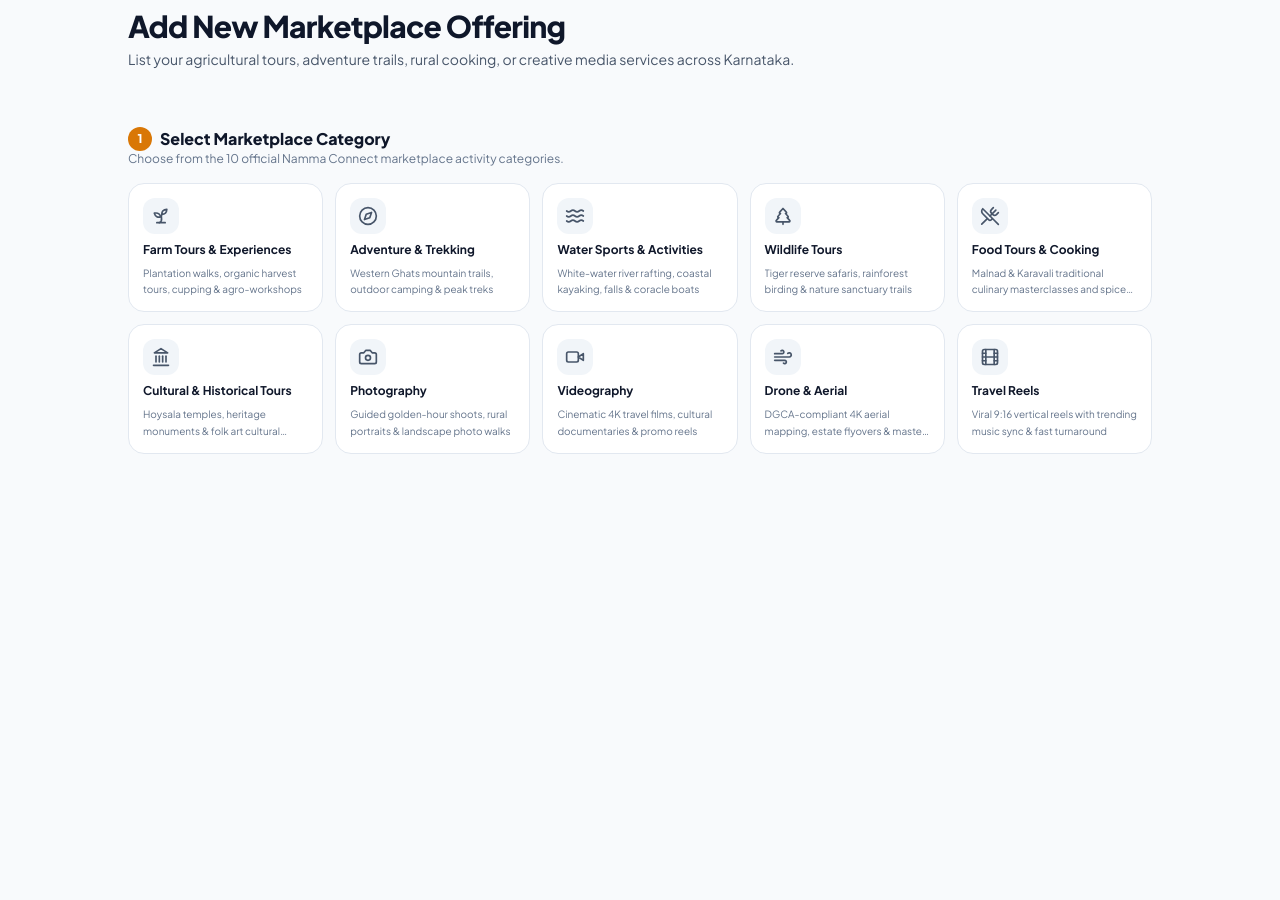
Scenario: Provider Service Management Component Suite › creates a new draft and review submission in PartnerServiceNewPage
Expected: the text "Select Marketplace Category" is shown, [160,127,390,151]
Click the heading "Farm Tours & Experiences" at [217, 249], box [143,242,292,257]
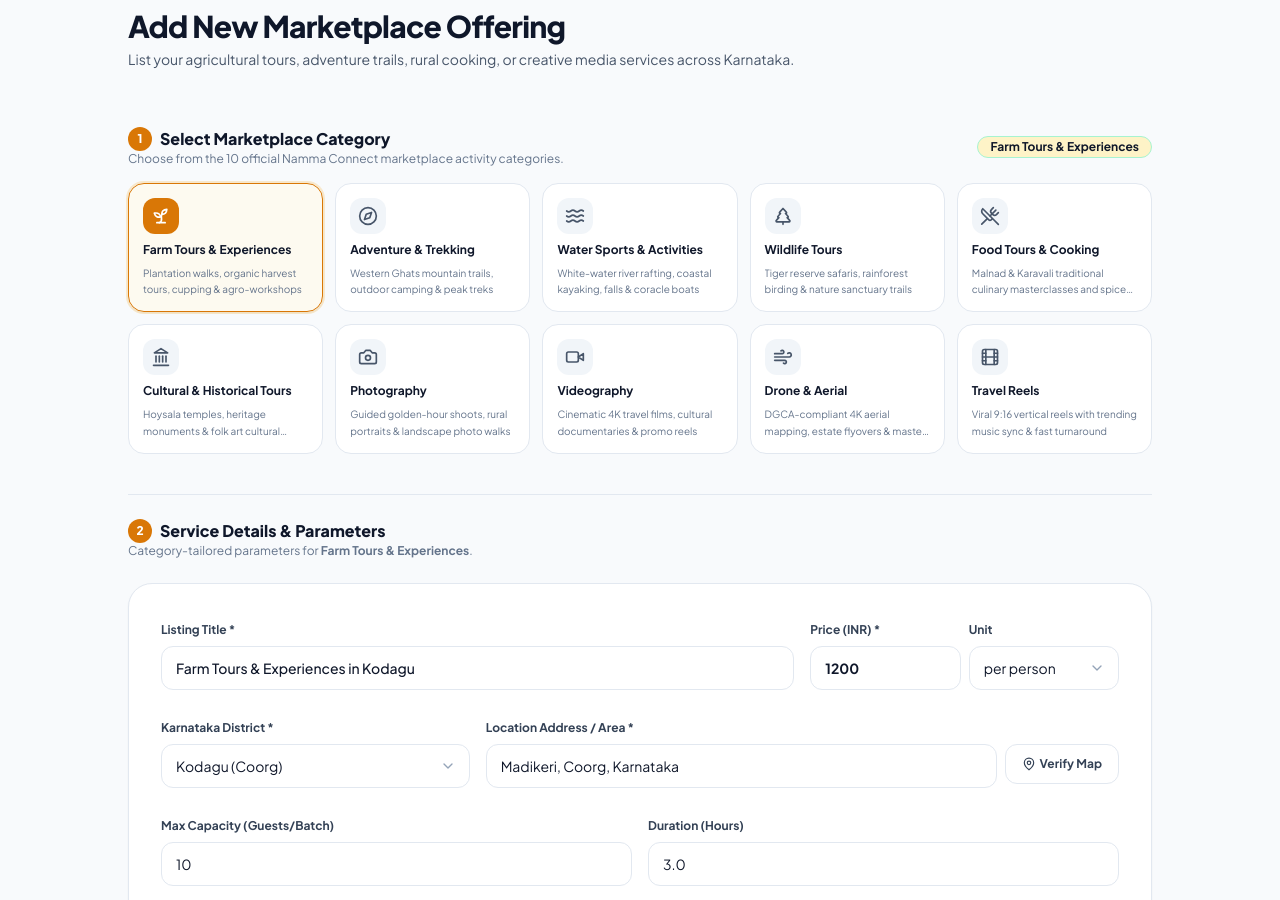
Expected: the text "Service Details & Parameters" is shown, [160,519,386,543]
Replace the text in the field with placeholder "e.g. Organic Arabica Coffee Harvesting & Estate Walk" below "Listing Title *" with "Kabini Riverfront Agro Trail" at [478, 668], box [161,646,794,690]
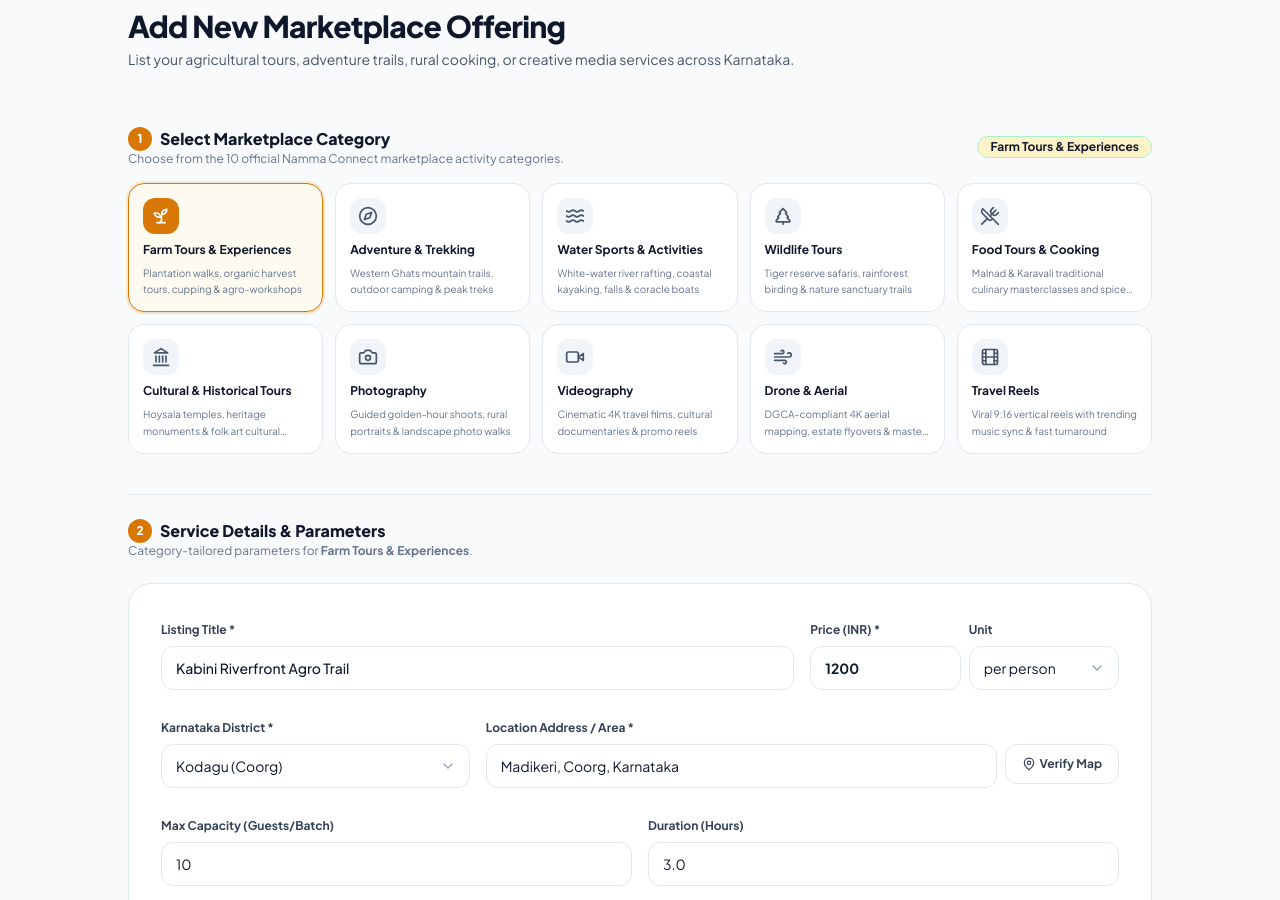
Type "2900" into the number field with placeholder "1200" below "Price (INR) *" at [885, 668], box [810,646,961,690]
(page scrolled)
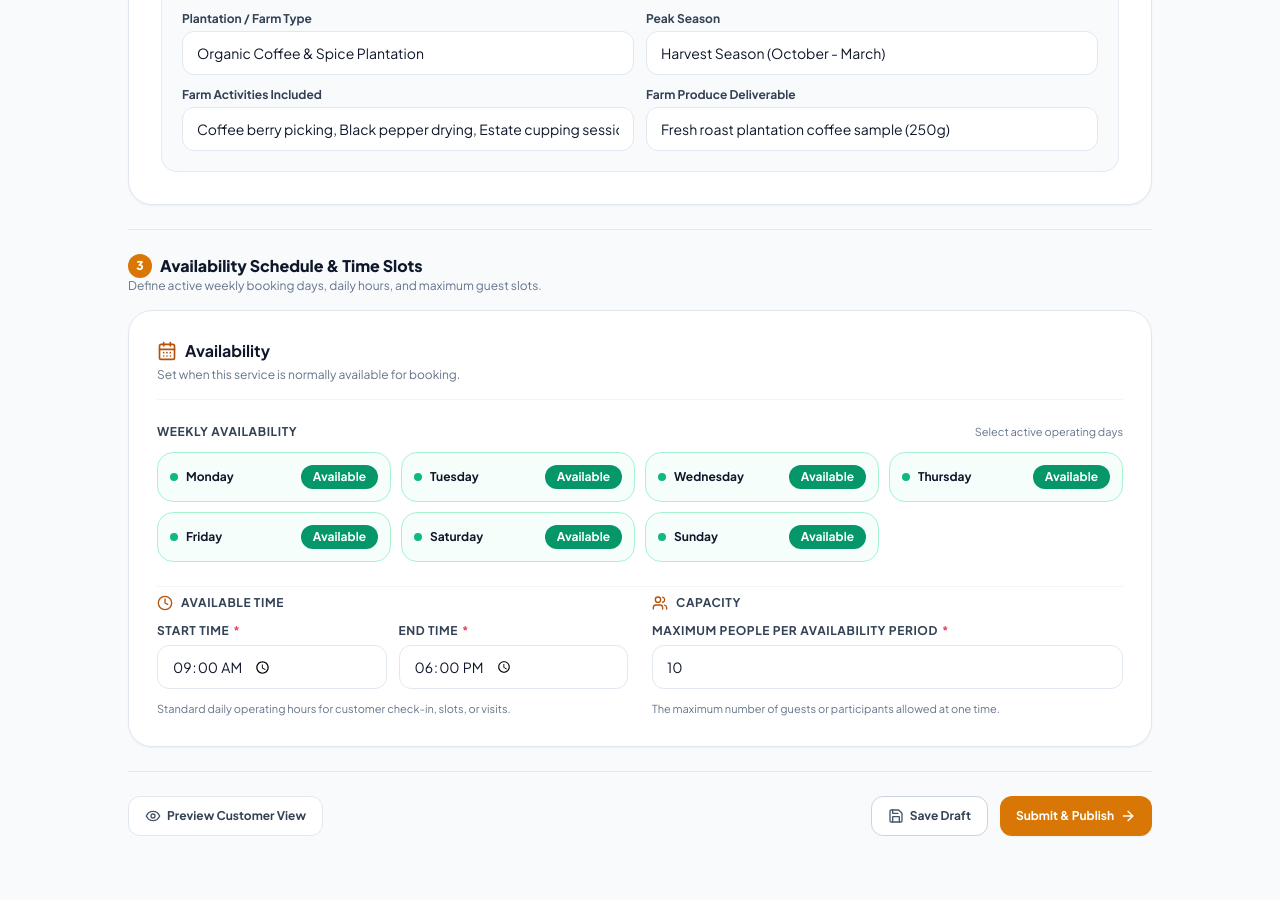
# Save as Draft
Click the button "Save Draft" at [929, 816], box [871,796,988,836]
(page scrolled)
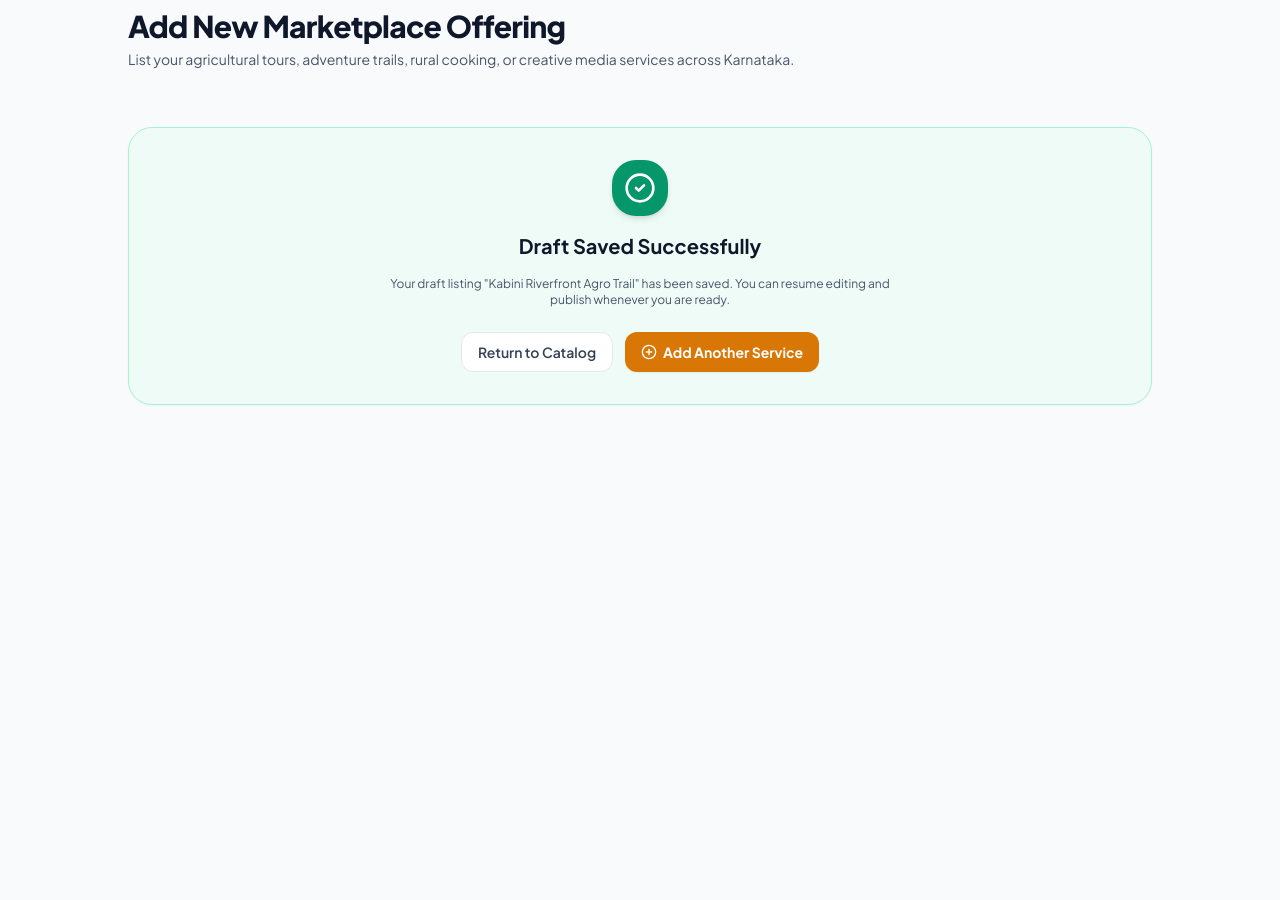
Expected: the heading "Draft Saved Successfully" is shown, [519,233,761,258]
